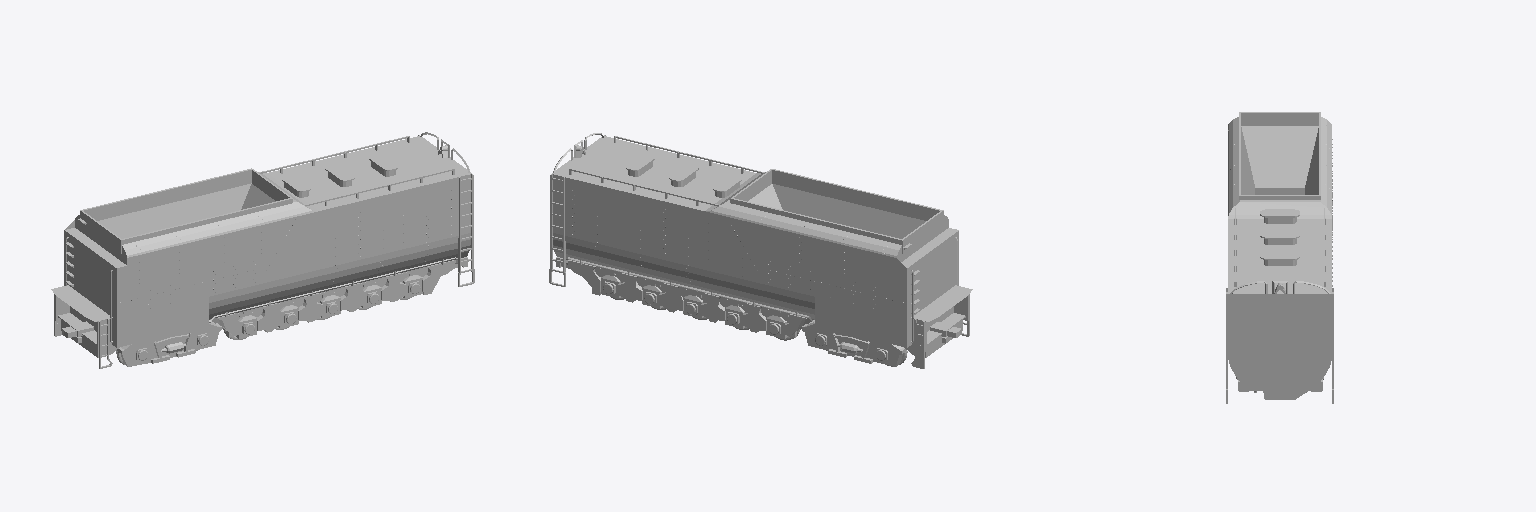
File: centipede_tender.obj
3 renders of one model, left to right at view 1: azimuth 30°, elevation 25°; view 2: azimuth 150°, elevation 25°; view 3: azimuth 270°, elevation 25°, orthographic.
Visible parts, largest first — view 1: SHELL_MAIN.005, FRAME_MAIN.002, FRONT_BOGEY_MAIN.003; view 2: SHELL_MAIN.005, FRAME_MAIN.002, FRONT_BOGEY_MAIN.003; view 3: SHELL_MAIN.005, FRAME_MAIN.002.
Part boxes in pixels (bbox=[...]): SHELL_MAIN.005: bbox=[51, 132, 473, 368]; FRAME_MAIN.002: bbox=[209, 257, 474, 338]; FRONT_BOGEY_MAIN.003: bbox=[117, 322, 221, 366]; SHELL_MAIN.005: bbox=[550, 133, 972, 368]; FRAME_MAIN.002: bbox=[549, 257, 814, 338]; FRONT_BOGEY_MAIN.003: bbox=[802, 320, 905, 366]; SHELL_MAIN.005: bbox=[1226, 112, 1333, 388]; FRAME_MAIN.002: bbox=[1226, 377, 1333, 403].
Size of the model in its own units: 13.5 by 4.61 by 3.29.